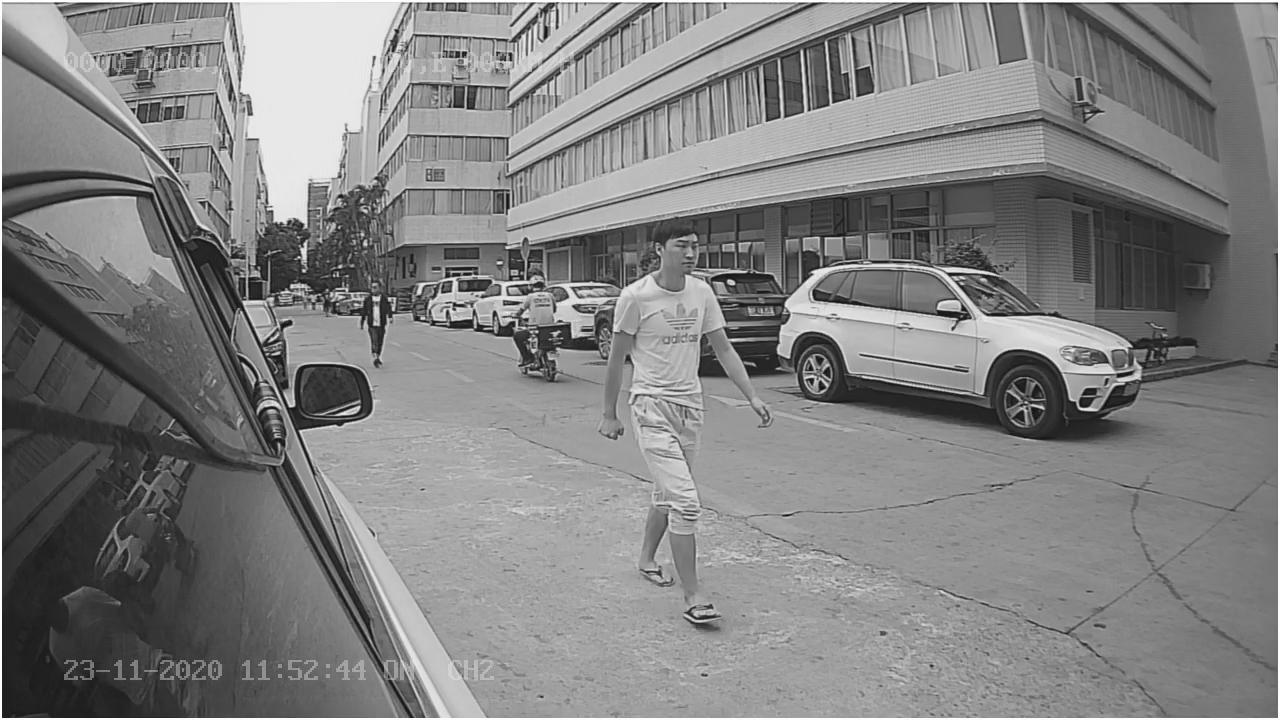person: (599, 217, 745, 622)
